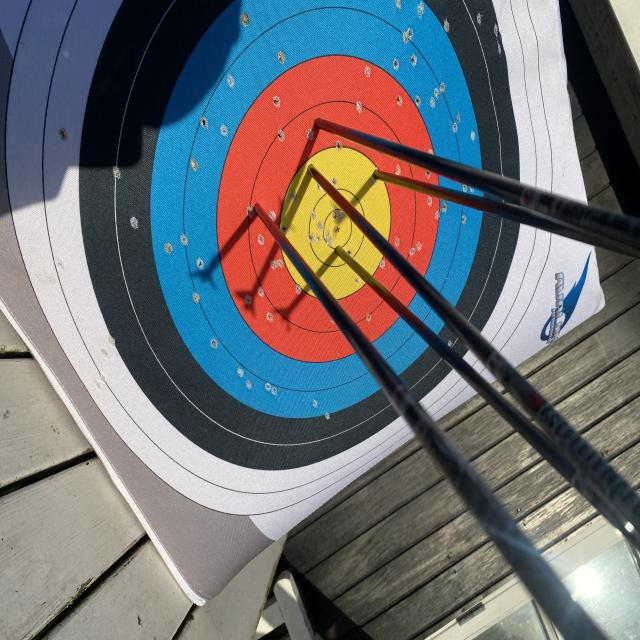Arrow_Red: (246, 188, 273, 238), (306, 108, 342, 135)
Arrow_Yellow: (326, 232, 352, 272), (304, 160, 328, 185), (368, 163, 387, 189)
